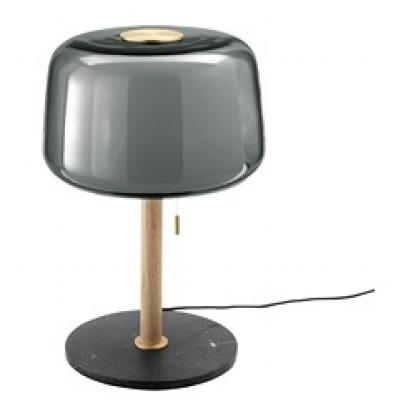Lamp: (28, 2, 273, 399)
